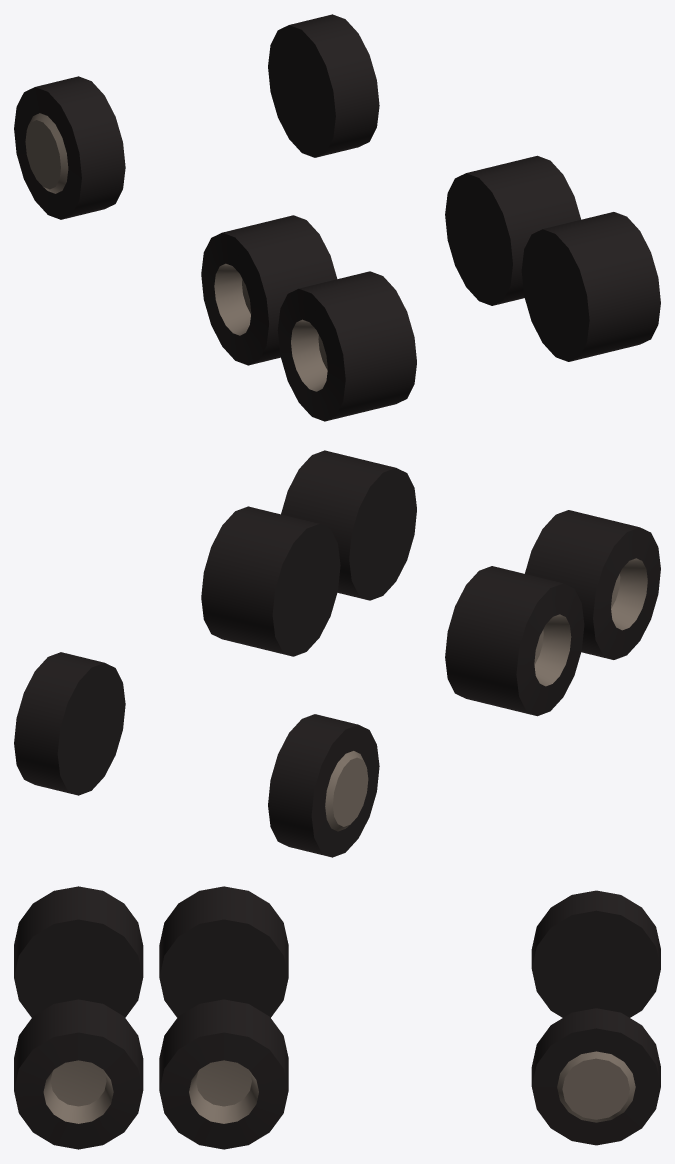
File: work_truck1_wheels.fbx
3 views of the same model, one above another, from view 1: azimuth 30°, elevation 25°; view 2: azimuth 150°, elevation 25°; view 3: azimuth 270°, elevation 25° (orthographic). The views are drawn at different scales.
Parts seen in each view (by area): view 1: work_truck1_wheels; view 2: work_truck1_wheels; view 3: work_truck1_wheels.
Part boxes in pixels (box(x1,y1,x2,y2)): work_truck1_wheels: box(14, 14, 660, 421); work_truck1_wheels: box(14, 450, 660, 857); work_truck1_wheels: box(14, 886, 660, 1149).
Bounding box in the file's own units: 293 × 108 × 540.
